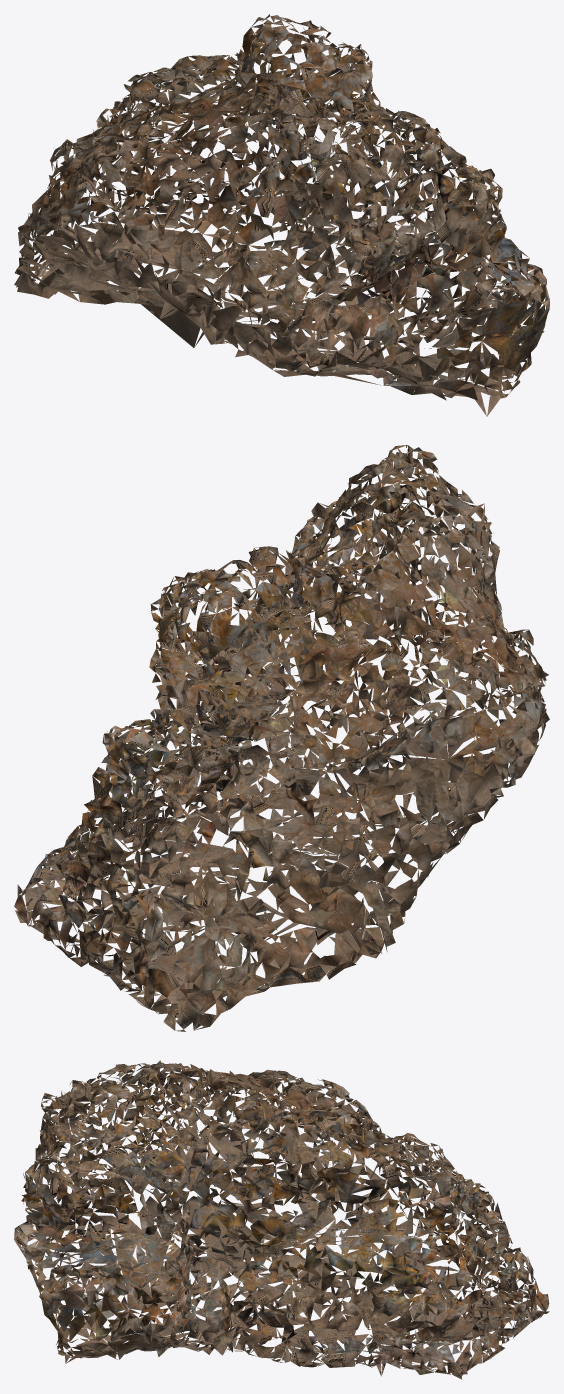
File: boulder.glb
3 views of the same model, one above another, from view 1: azimuth 30°, elevation 25°; view 2: azimuth 150°, elevation 25°; view 3: azimuth 270°, elevation 25° (orthographic). The views are drawn at different scales.
Size of the model in its own units: 1.28 by 1 by 1.83.
1 material, 1 textured.
